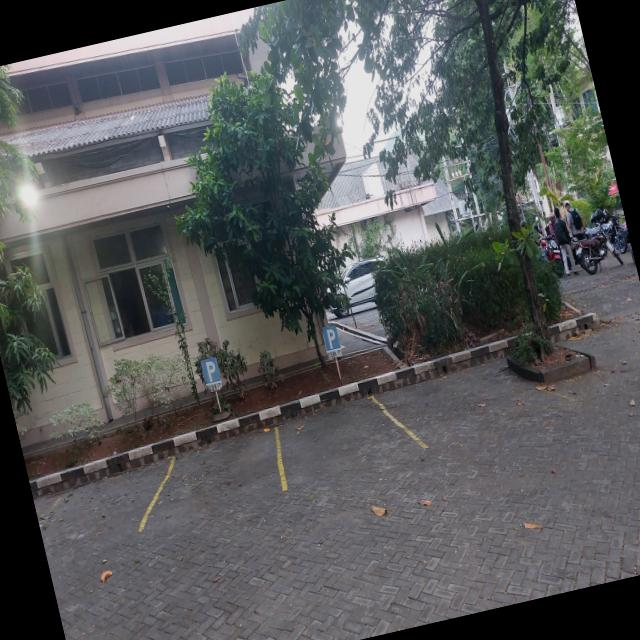free: (367, 361, 573, 448), (137, 424, 286, 531), (274, 392, 426, 490), (39, 456, 175, 550)
